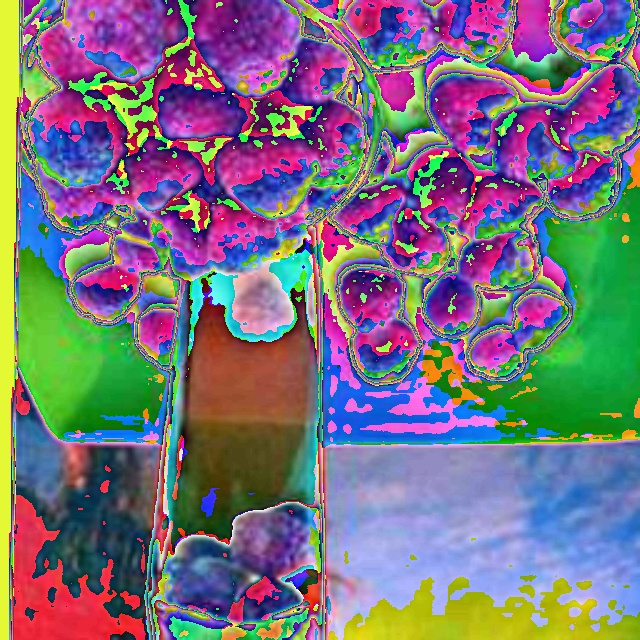background: (23, 0, 367, 640), (108, 90, 572, 382), (312, 0, 639, 390)
